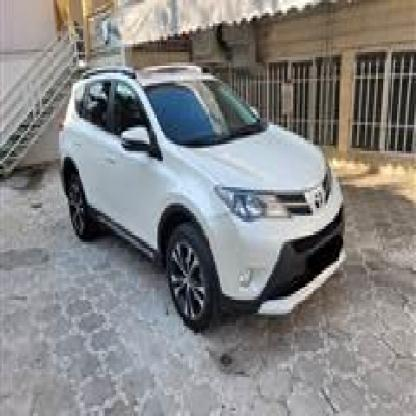Car: (59, 60, 352, 335)
